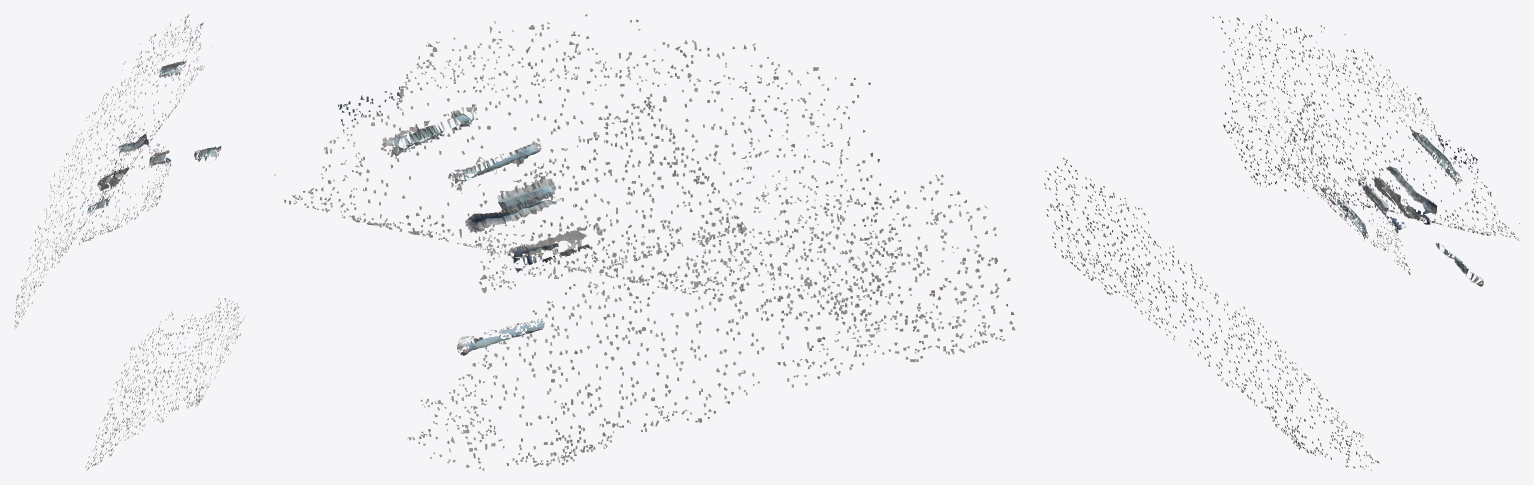
3 views of the same model, side by side, from view 1: azimuth 30°, elevation 25°; view 2: azimuth 150°, elevation 25°; view 3: azimuth 270°, elevation 25° (orthographic). The views are drawn at different scales.
Visible parts, largest first — view 1: geometry_0; view 2: geometry_0; view 3: geometry_0.
Part boxes in pixels (x1,y1,x2,y2): geometry_0: [14, 14, 245, 470]; geometry_0: [274, 14, 1015, 470]; geometry_0: [1044, 14, 1519, 470].
Size of the model in its own units: 0.8866 by 0.8982 by 0.9788.
